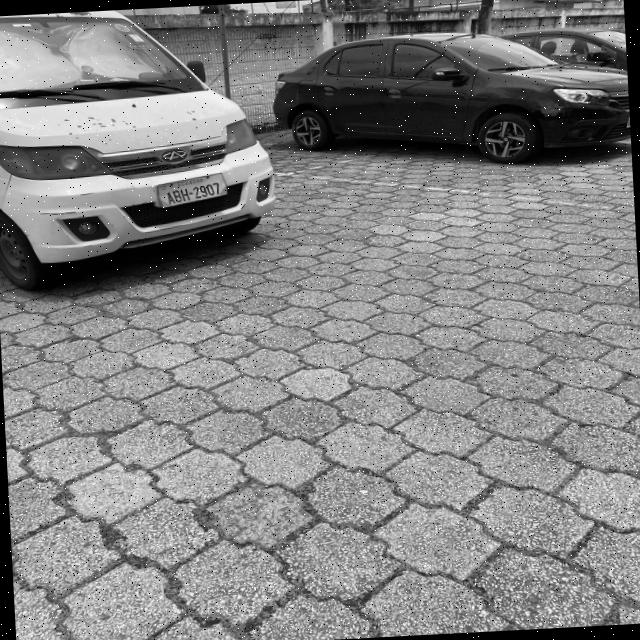Placa: (156, 174, 227, 207)
